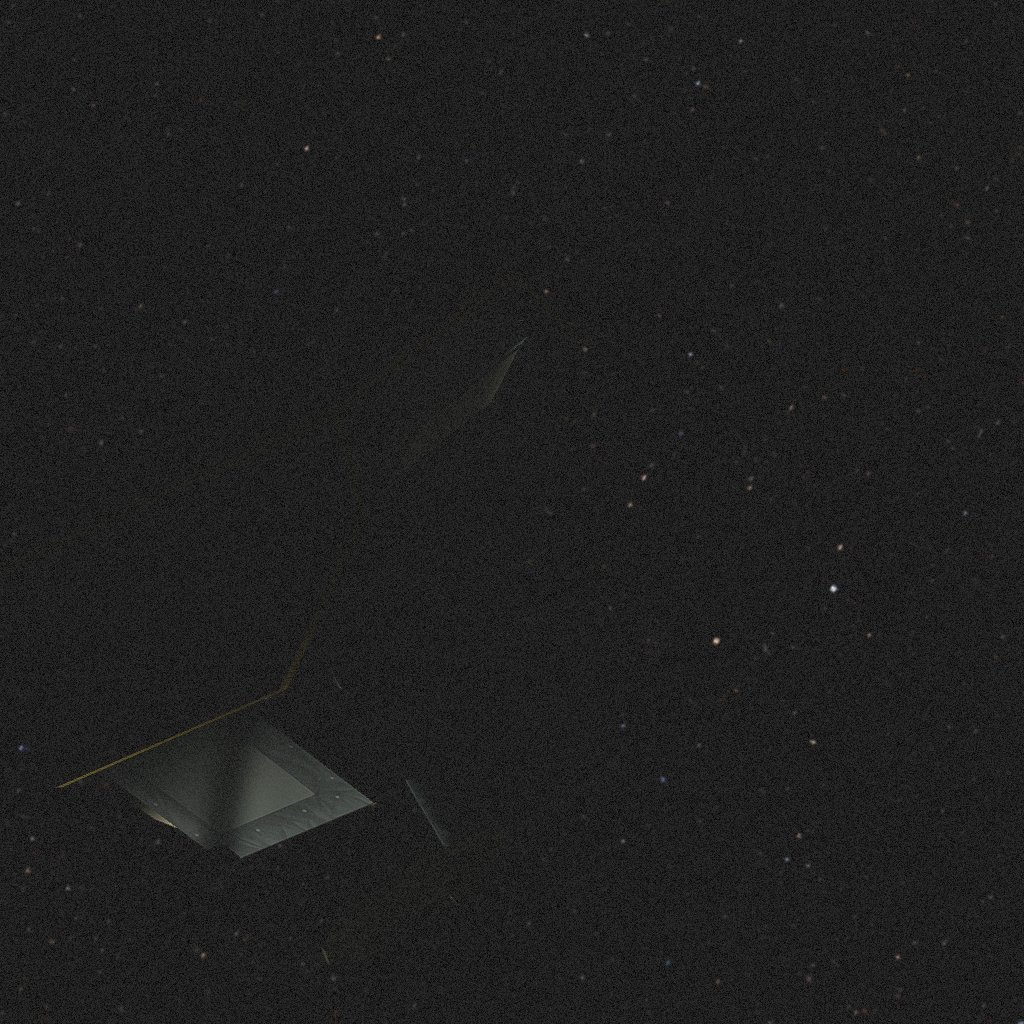cheops: (0, 267, 627, 965)
